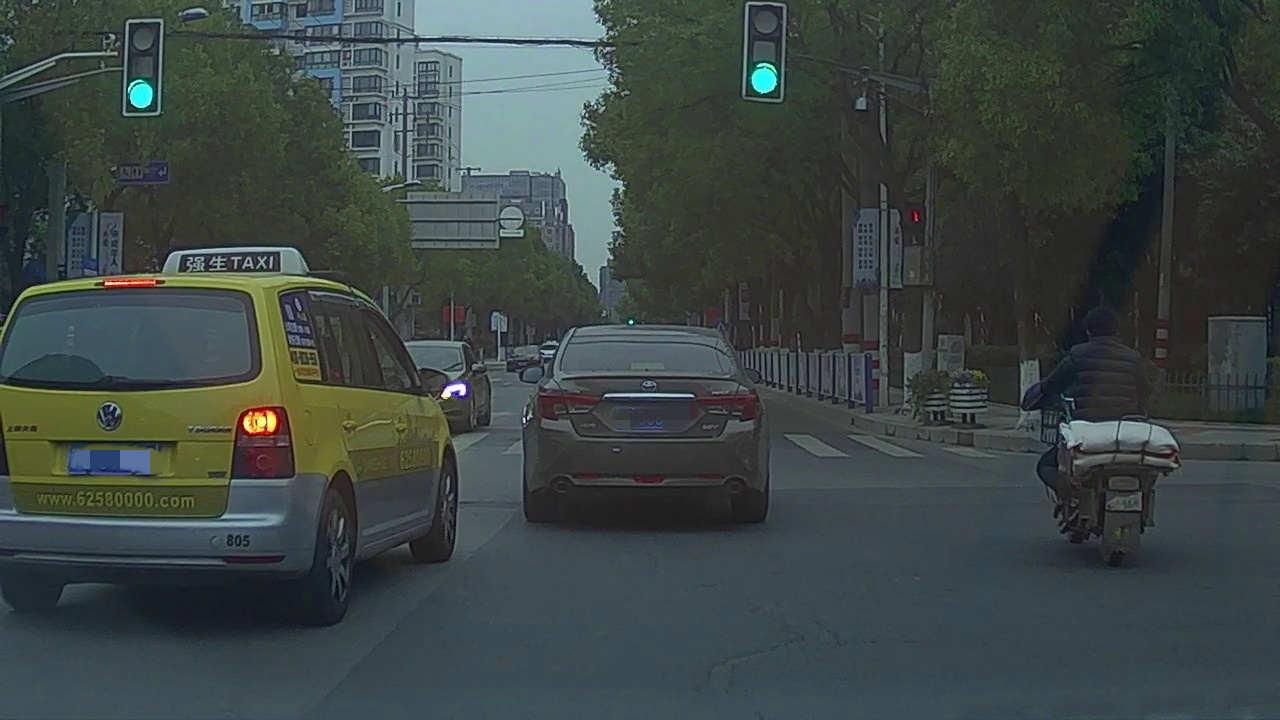traffic_light: (746, 4, 781, 100), (126, 21, 160, 112)
